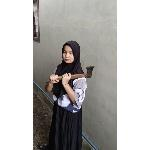Kapak: (50, 64, 98, 86)
